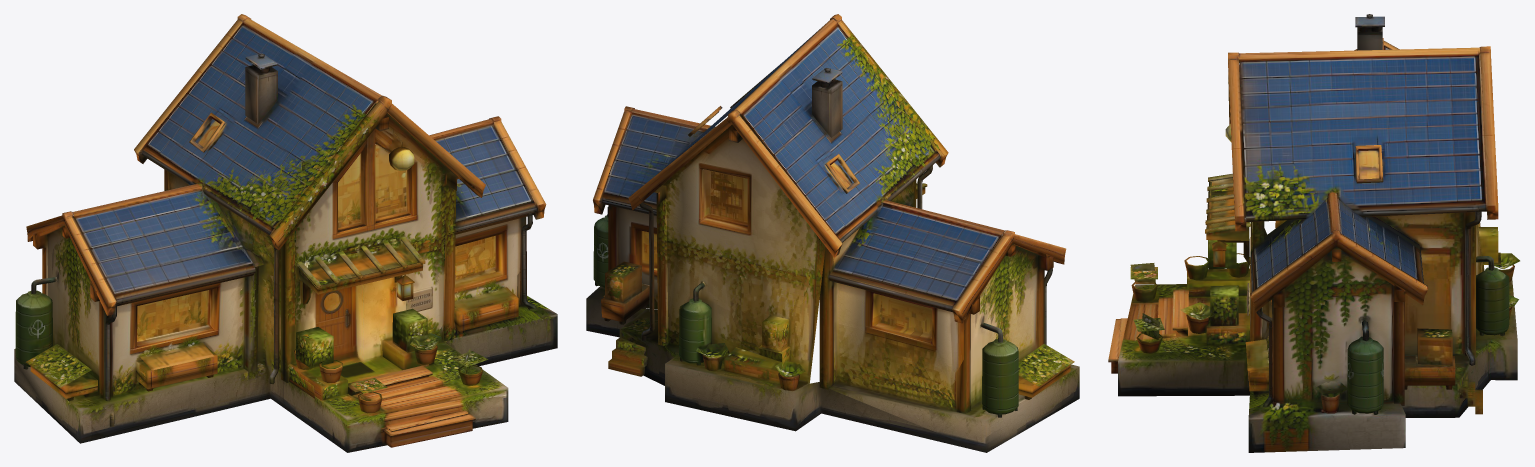
The model's file is Tcottage.glb.
3 views of the same model, side by side, from view 1: azimuth 30°, elevation 25°; view 2: azimuth 150°, elevation 25°; view 3: azimuth 270°, elevation 25° (orthographic). The views are drawn at different scales.
Visible parts, largest first — view 1: tripo_45285483_56d0_4ef6_b000_dd235d177944; view 2: tripo_45285483_56d0_4ef6_b000_dd235d177944; view 3: tripo_45285483_56d0_4ef6_b000_dd235d177944.
Boxes of the visible parts, x1,y1,x2,y2 form: tripo_45285483_56d0_4ef6_b000_dd235d177944: (14, 14, 557, 452); tripo_45285483_56d0_4ef6_b000_dd235d177944: (586, 14, 1079, 452); tripo_45285483_56d0_4ef6_b000_dd235d177944: (1108, 14, 1519, 452).
Bounding box in the file's own units: 0.9995 × 0.6353 × 0.7446.
Materials: 1 (1 with a texture image).
